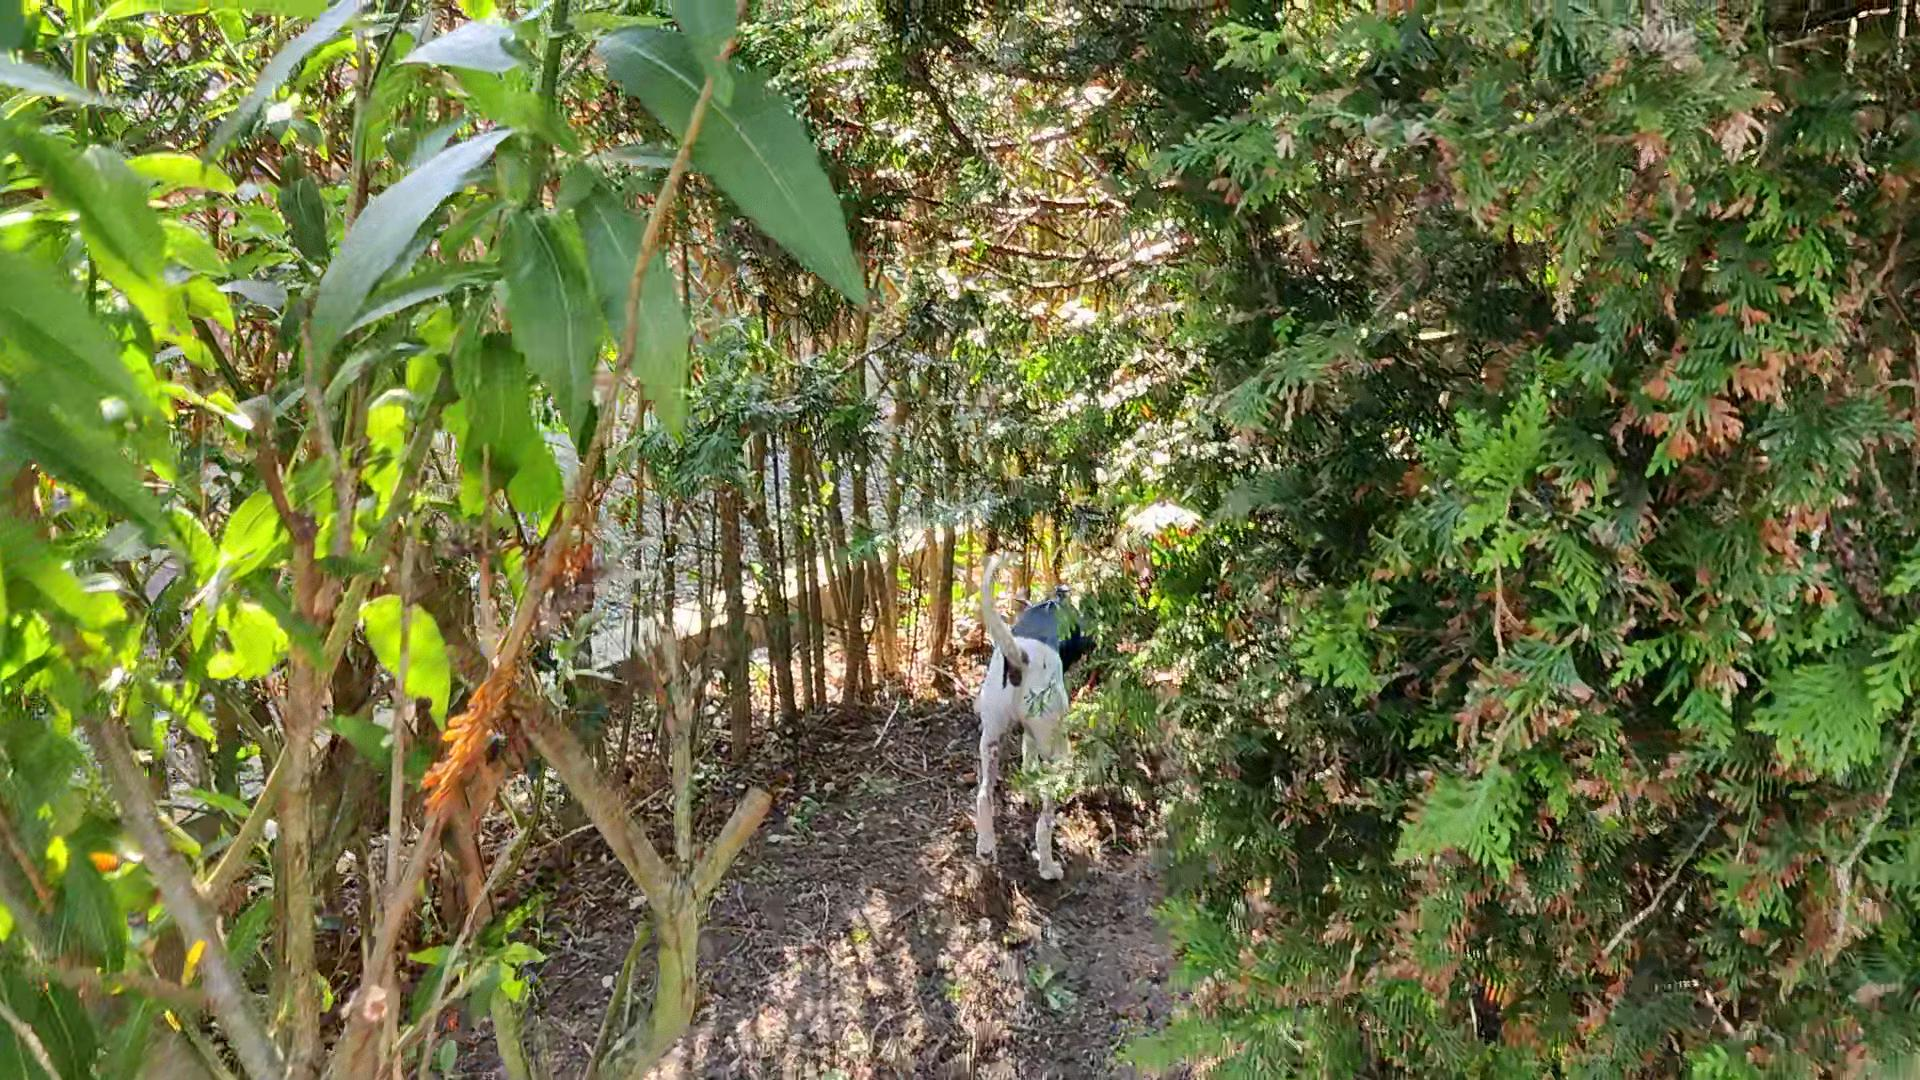Dog: (957, 535, 1124, 884)
